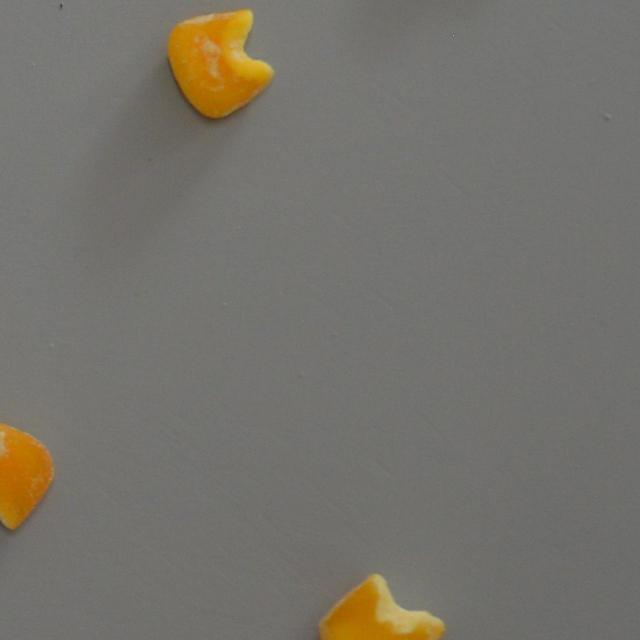pelicula: (162, 6, 277, 122), (312, 570, 446, 640), (0, 407, 62, 538)
